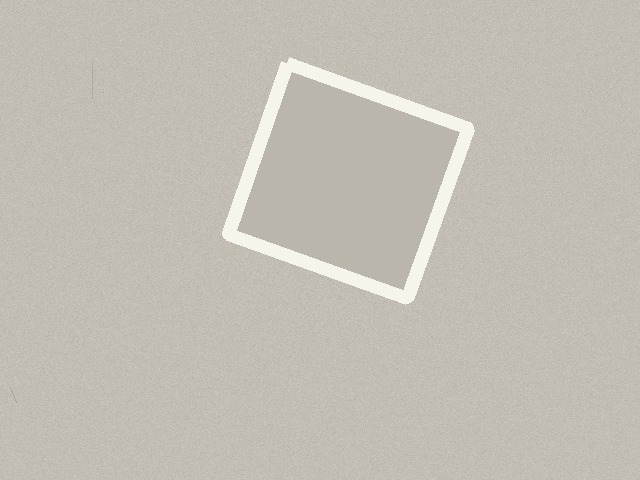parking_area: (228, 63, 468, 298)
